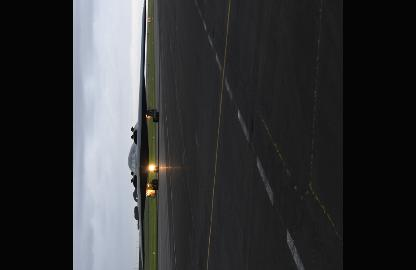B1: (127, 0, 159, 267)
